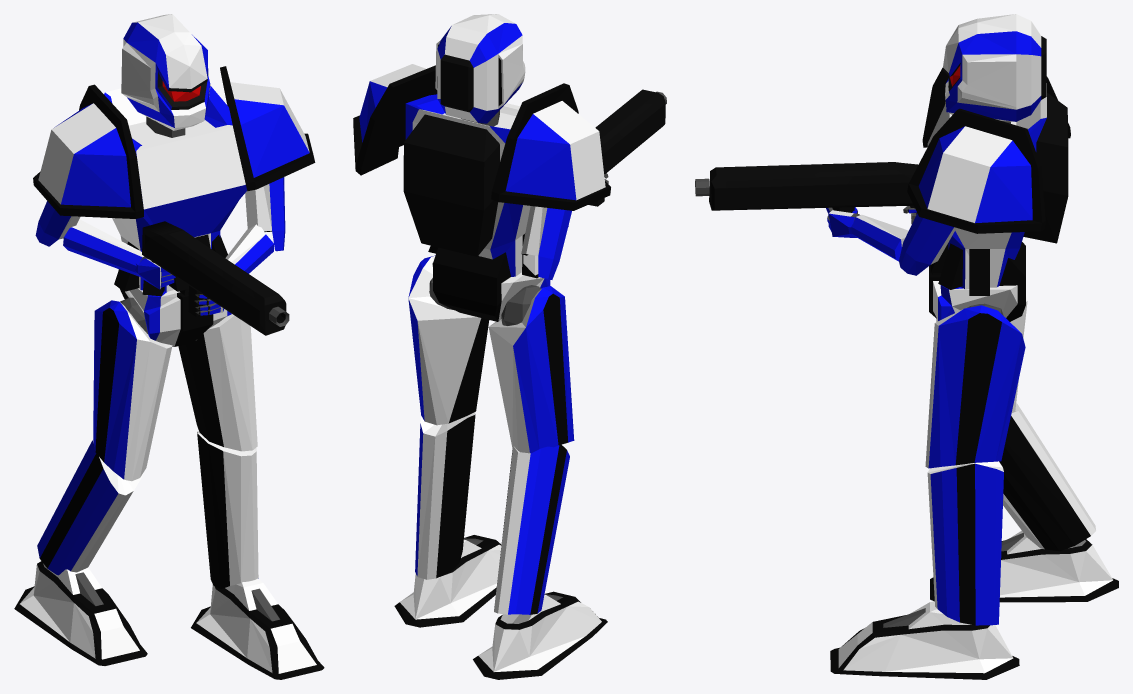
File: robot_animation_000009.obj
3 renders of one model, left to right at view 1: azimuth 30°, elevation 25°; view 2: azimuth 150°, elevation 25°; view 3: azimuth 270°, elevation 25°, orthographic.
Parts seen in each view (by area): view 1: Chest_plate_Cube.004, R_Thigh_Cube.005, Cube.002_Cube.059, Head_base_Cube.022, R_Thigh.002_Cube.027, R_Foot_Cube, R_Foot.002_Cube.035, R_Shin.002_Cube.029, Cube_Cube.001, R_Shin_Cube.007, Cube_Cube.021, Pelvis_Cube.006 (+5 smaller); view 2: Chest_plate_Cube.004, Cube.002_Cube.059, R_Thigh_Cube.005, R_Shin_Cube.007, R_Thigh.002_Cube.027, Head_base_Cube.022, R_Shin.002_Cube.029, R_Foot_Cube, R_Foot.002_Cube.035, Cube_Cube.021, Pelvis_Cube.006, Cube_Cube.001 (+2 smaller); view 3: Cube_Cube.021, R_Thigh.002_Cube.027, R_Shin.002_Cube.029, R_Foot.002_Cube.035, Head_base_Cube.022, Cube_Cube.001, Chest_plate_Cube.004, R_Shin_Cube.007, R_Foot_Cube, Pelvis_Cube.006, L_Arm_Cube.014, L_Forearm_Cube.020 (+2 smaller).
Part boxes in pixels (bbox=[...]): Chest_plate_Cube.004: bbox=[104, 86, 246, 296]; R_Thigh_Cube.005: bbox=[93, 300, 172, 481]; Cube.002_Cube.059: bbox=[33, 84, 143, 218]; Head_base_Cube.022: bbox=[121, 14, 210, 130]; R_Thigh.002_Cube.027: bbox=[178, 314, 257, 451]; R_Foot_Cube: bbox=[14, 561, 147, 665]; R_Foot.002_Cube.035: bbox=[191, 578, 324, 679]; R_Shin.002_Cube.029: bbox=[197, 431, 258, 588]; Cube_Cube.001: bbox=[142, 221, 289, 335]; R_Shin_Cube.007: bbox=[37, 439, 142, 575]; Cube_Cube.021: bbox=[220, 66, 315, 191]; Pelvis_Cube.006: bbox=[120, 288, 231, 346]; Chest_plate_Cube.004: bbox=[403, 94, 538, 278]; Cube.002_Cube.059: bbox=[491, 83, 610, 210]; R_Thigh_Cube.005: bbox=[488, 286, 574, 453]; R_Shin_Cube.007: bbox=[494, 444, 569, 614]; R_Thigh.002_Cube.027: bbox=[408, 255, 489, 425]; Head_base_Cube.022: bbox=[435, 14, 525, 123]; R_Shin.002_Cube.029: bbox=[415, 412, 475, 579]; R_Foot_Cube: bbox=[473, 591, 607, 679]; R_Foot.002_Cube.035: bbox=[394, 535, 501, 627]; Cube_Cube.021: bbox=[353, 64, 437, 175]; Pelvis_Cube.006: bbox=[432, 247, 550, 321]; Cube_Cube.001: bbox=[588, 89, 666, 206]; Cube_Cube.021: bbox=[907, 108, 1045, 233]; R_Thigh.002_Cube.027: bbox=[925, 305, 1025, 468]; R_Shin.002_Cube.029: bbox=[927, 461, 1003, 625]; R_Foot.002_Cube.035: bbox=[830, 601, 1019, 679]; Head_base_Cube.022: bbox=[943, 14, 1046, 121]; Cube_Cube.001: bbox=[695, 162, 918, 214]; Chest_plate_Cube.004: bbox=[927, 83, 1068, 295]; R_Shin_Cube.007: bbox=[999, 403, 1095, 551]; R_Foot_Cube: bbox=[930, 530, 1118, 602]; Pelvis_Cube.006: bbox=[929, 242, 1025, 321]; L_Arm_Cube.014: bbox=[899, 213, 956, 275]; L_Forearm_Cube.020: bbox=[851, 214, 908, 261].
Size of the model in its own units: 1.32 by 3.03 by 1.9.
